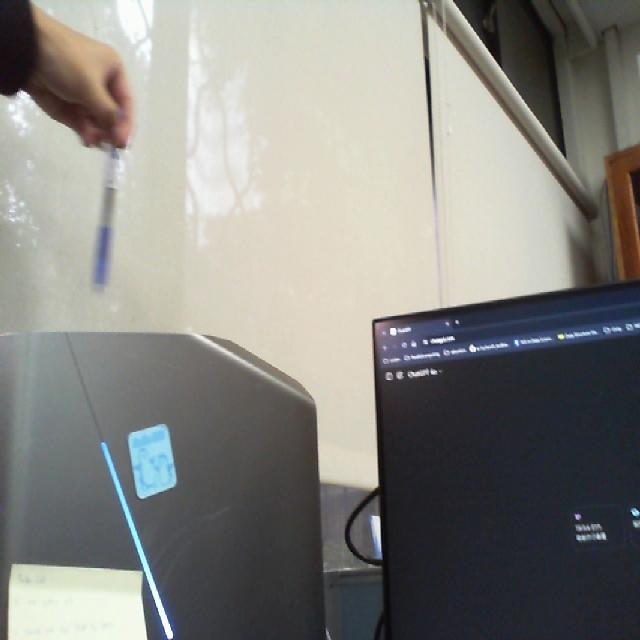Pen: (81, 115, 132, 325), (100, 105, 101, 134)
